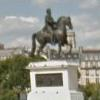Statue: (16, 6, 78, 62)
